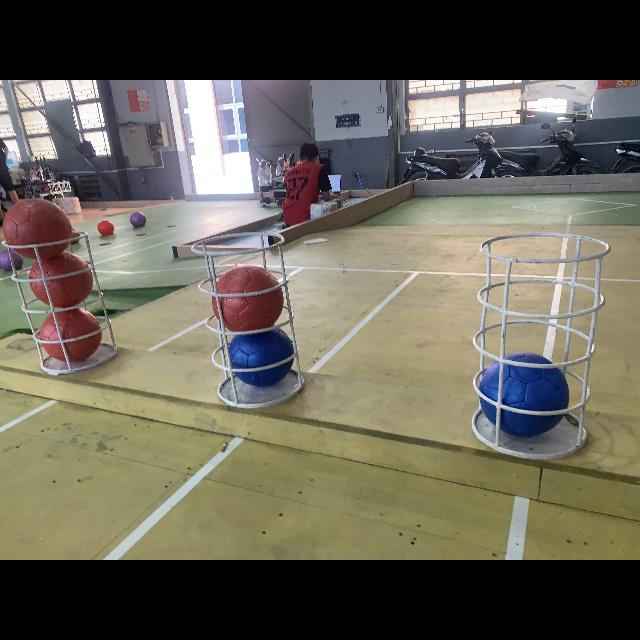B: (480, 352, 570, 436), (228, 327, 296, 389)
R: (212, 265, 282, 333), (0, 198, 74, 259), (28, 253, 93, 307), (40, 307, 102, 361)
